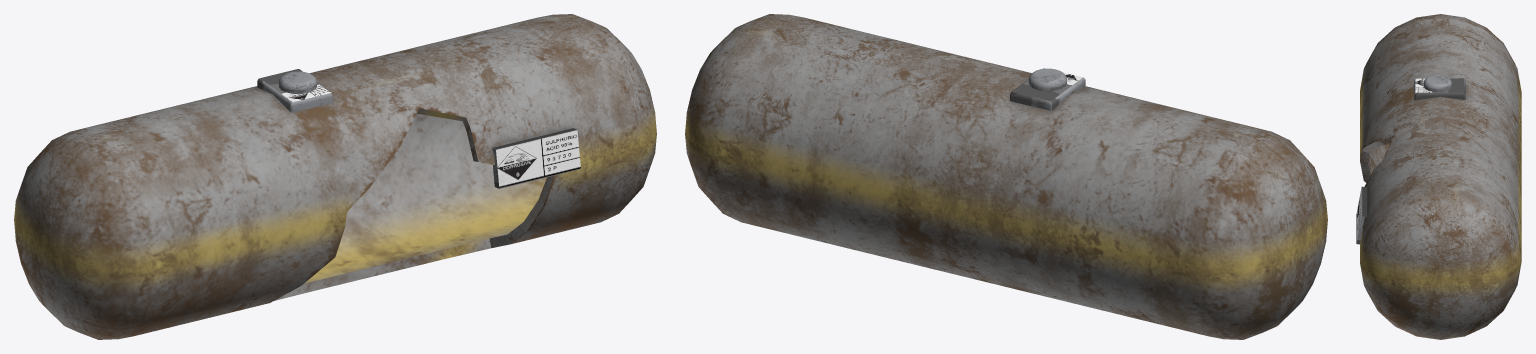
File: acid.fbx
The picture shows the model from 3 angles, left to right: view 1: azimuth 30°, elevation 25°; view 2: azimuth 150°, elevation 25°; view 3: azimuth 270°, elevation 25°; orthographic projection. The views are drawn at different scales.
Parts seen in each view (by area): view 1: pCylinder1, pCube2, pCube1, pCylinder2; view 2: pCylinder1, pCube1, pCylinder2; view 3: pCylinder1, pCube1, pCube2, pCylinder2.
Boxes of the visible parts, x1,y1,x2,y2 form: pCylinder1: (14, 14, 656, 339); pCube2: (492, 128, 580, 188); pCube1: (257, 69, 332, 112); pCylinder2: (278, 71, 316, 93); pCylinder1: (685, 14, 1327, 339); pCube1: (1010, 68, 1085, 110); pCylinder2: (1028, 68, 1066, 91); pCylinder1: (1360, 14, 1521, 339); pCube1: (1414, 78, 1465, 100); pCube2: (1356, 186, 1367, 244); pCylinder2: (1423, 75, 1452, 92).
Bounding box in the file's own units: 13.68 × 4.59 × 4.4.
2 materials, 2 textured.
